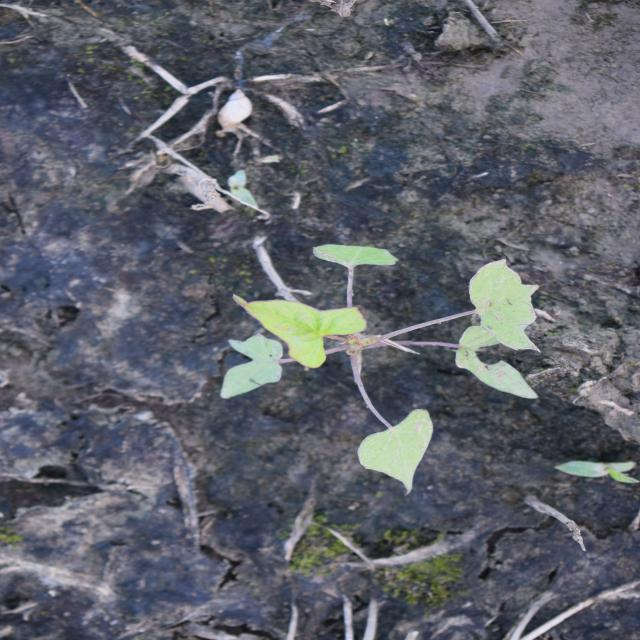MorningGlory: (217, 242, 544, 497)
